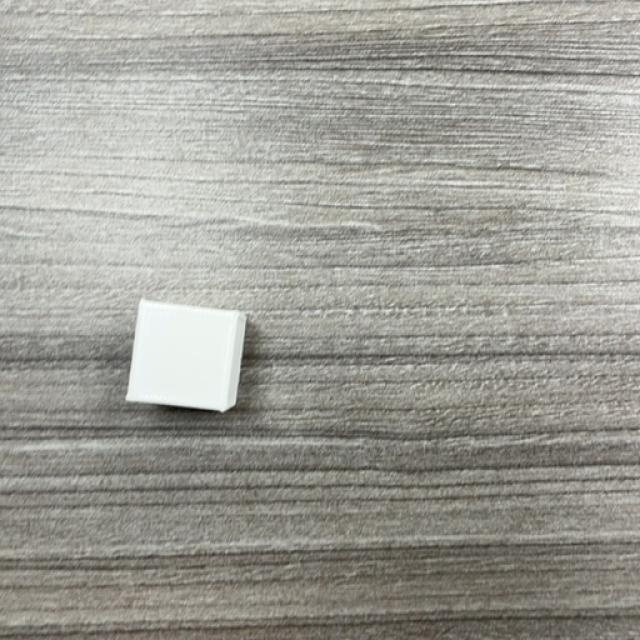Blanco: (125, 301, 248, 415)
